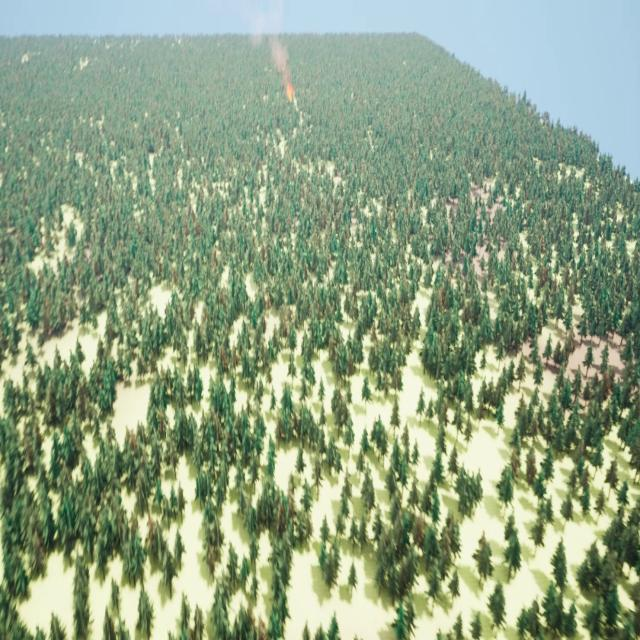fire: (286, 84, 298, 106)
smoke: (245, 5, 292, 90)
